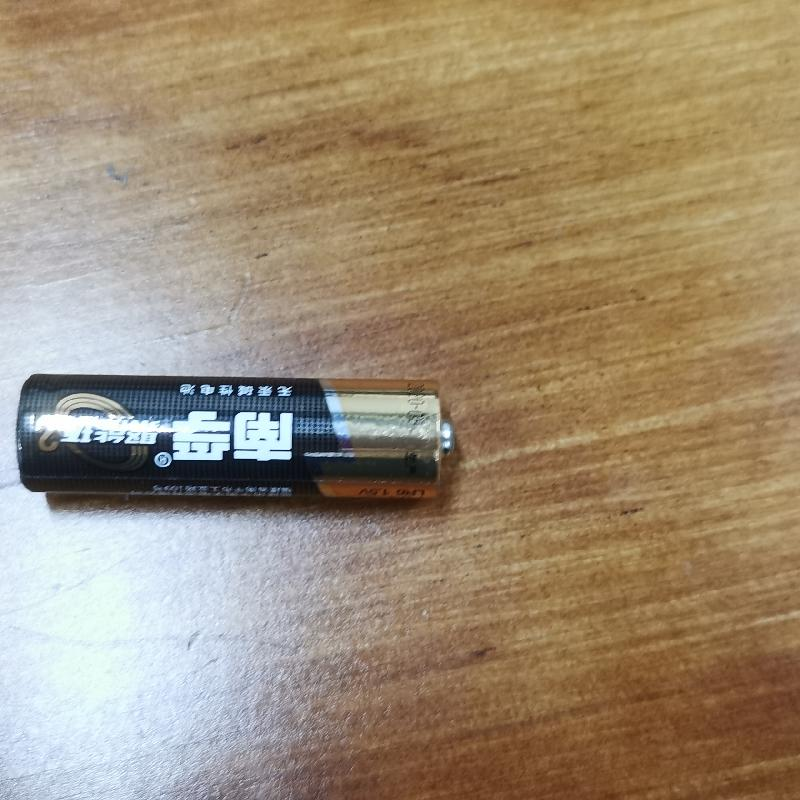battery: (15, 352, 461, 521)
